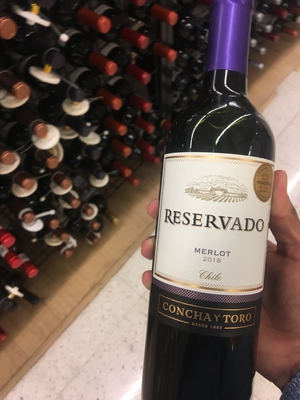reservado merlot: (135, 10, 291, 377)
